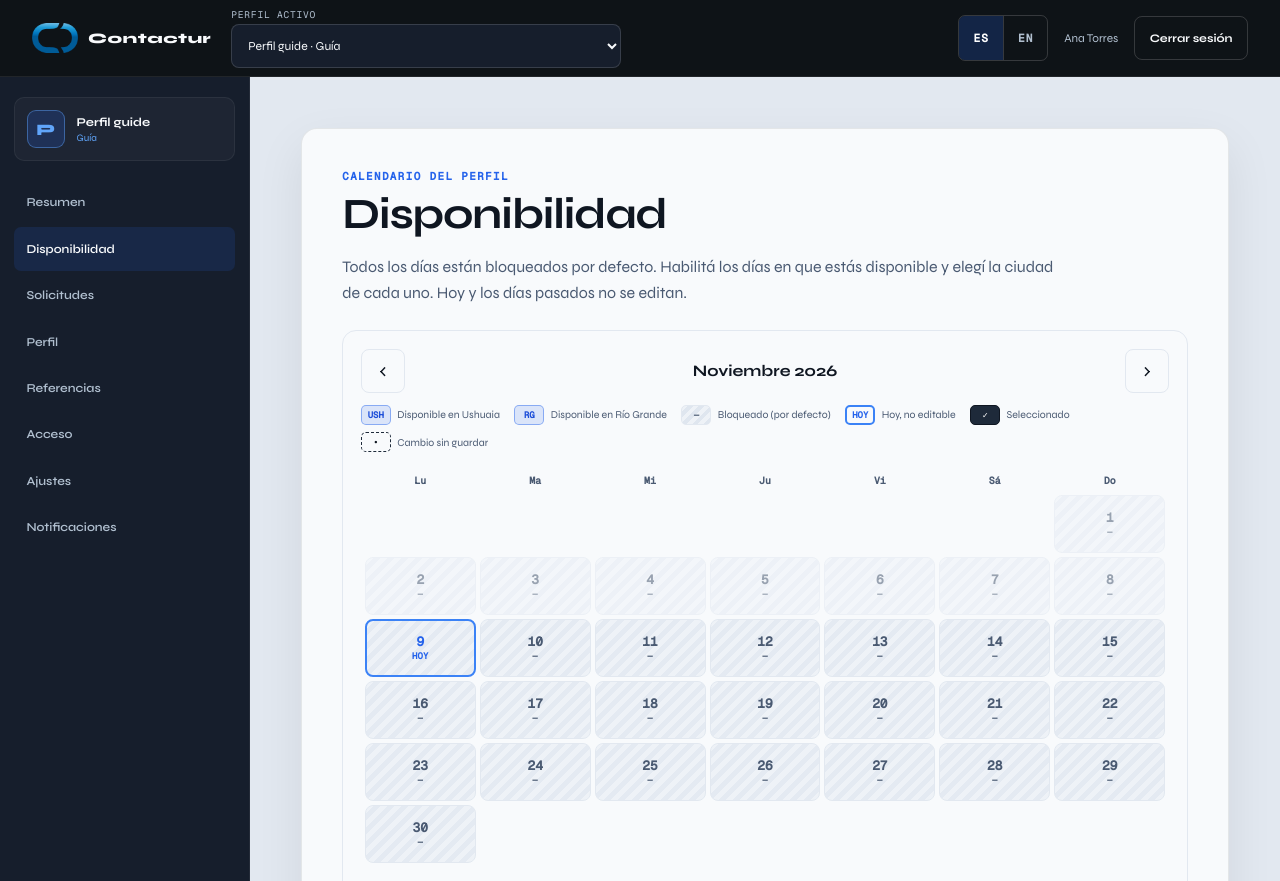
Test case: T13 — calendario mensual › un 422 por ítem se muestra en el día correcto y el borrador queda intacto
This screenshot has width=1280, height=881.
Expected: the heading "Disponibilidad" is shown, left=342, top=188, right=667, bottom=240
What coordinates should you click on to do the following:
click the button "10 —"
I would click on:
 (535, 648)
Its box is left=480, top=620, right=591, bottom=678.
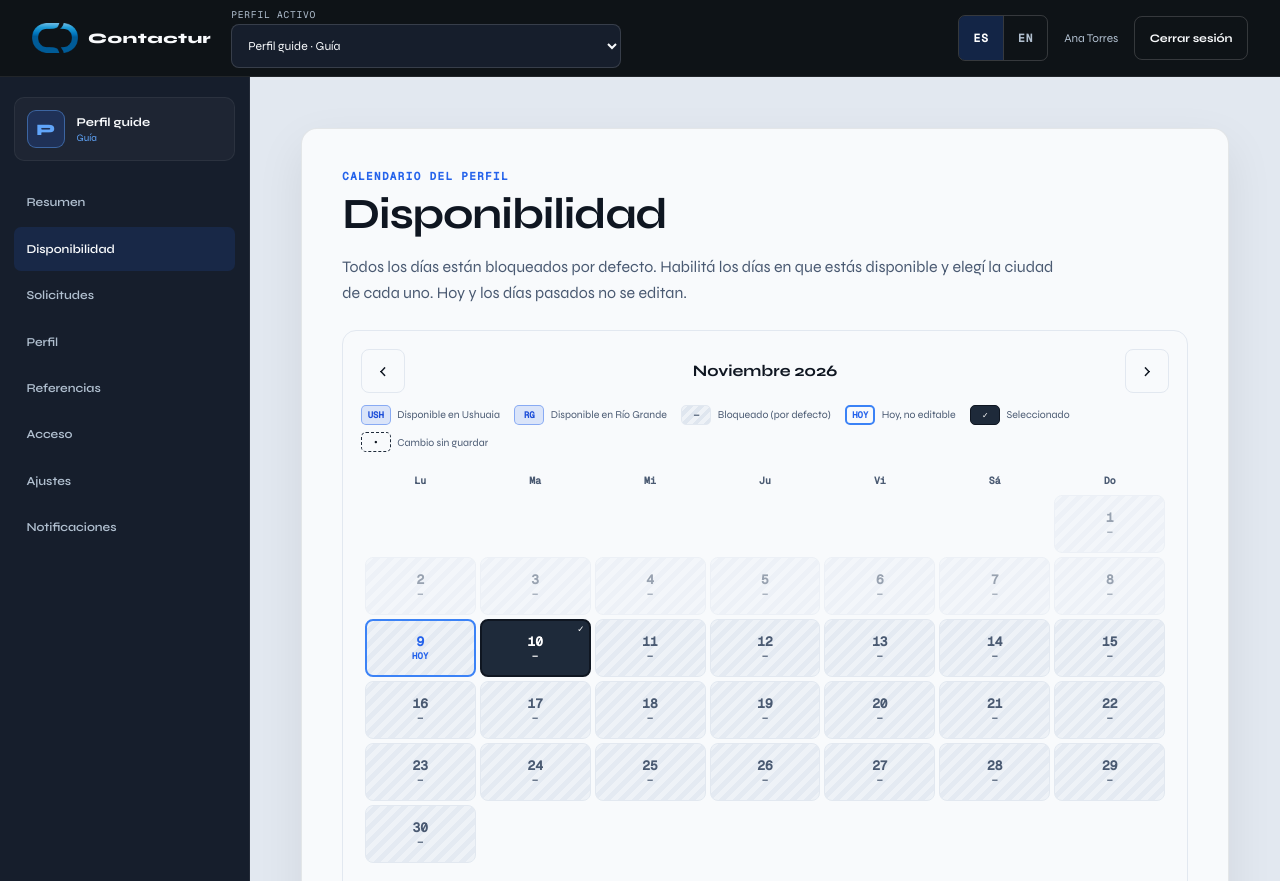
What coordinates should you click on to do the following:
click the button "11 —"
I would click on:
 (650, 648)
Its box is left=595, top=620, right=706, bottom=678.
(page scrolled)
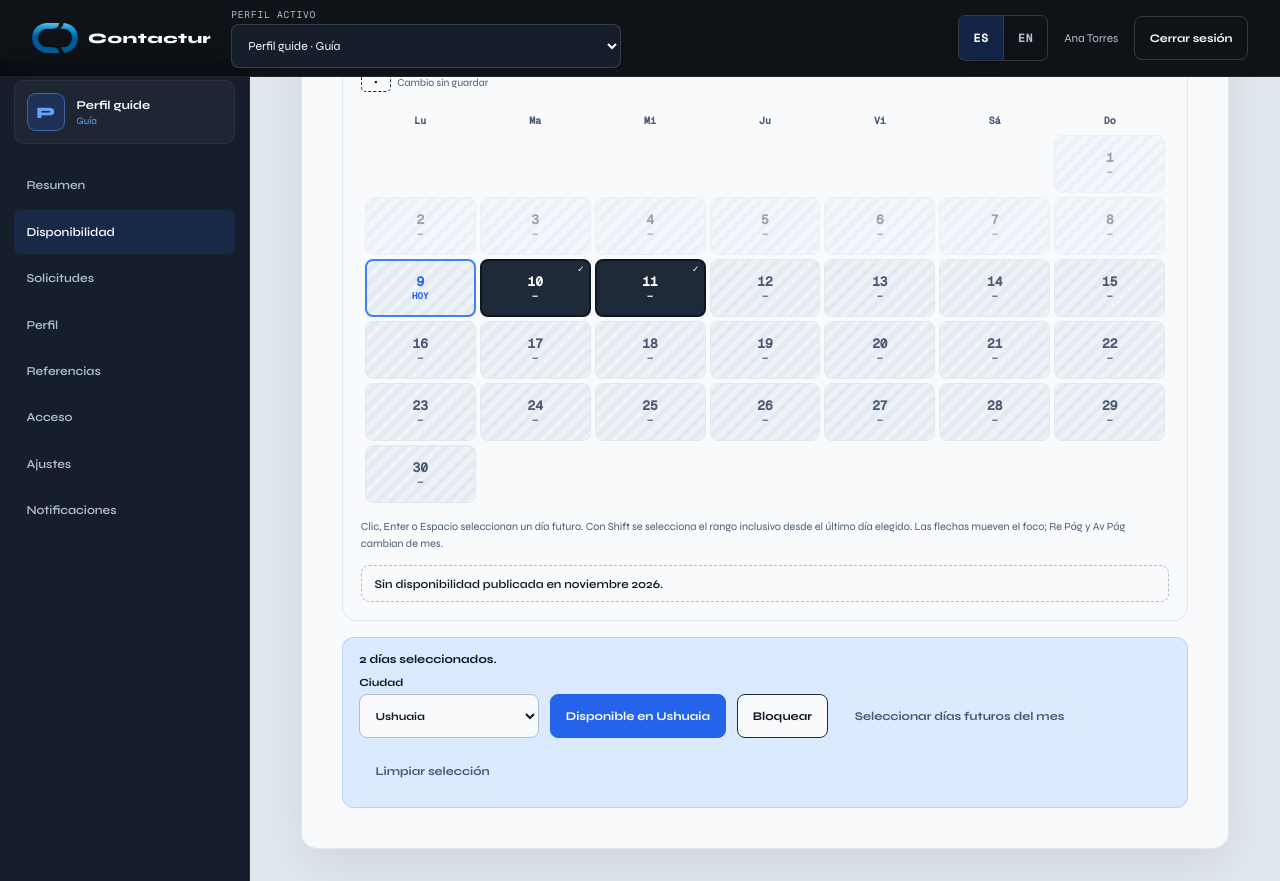
What coordinates should you click on to do the following:
click the button "Disponible en Ushuaia"
I would click on:
 (638, 716)
Its box is left=550, top=694, right=726, bottom=738.
(page scrolled)
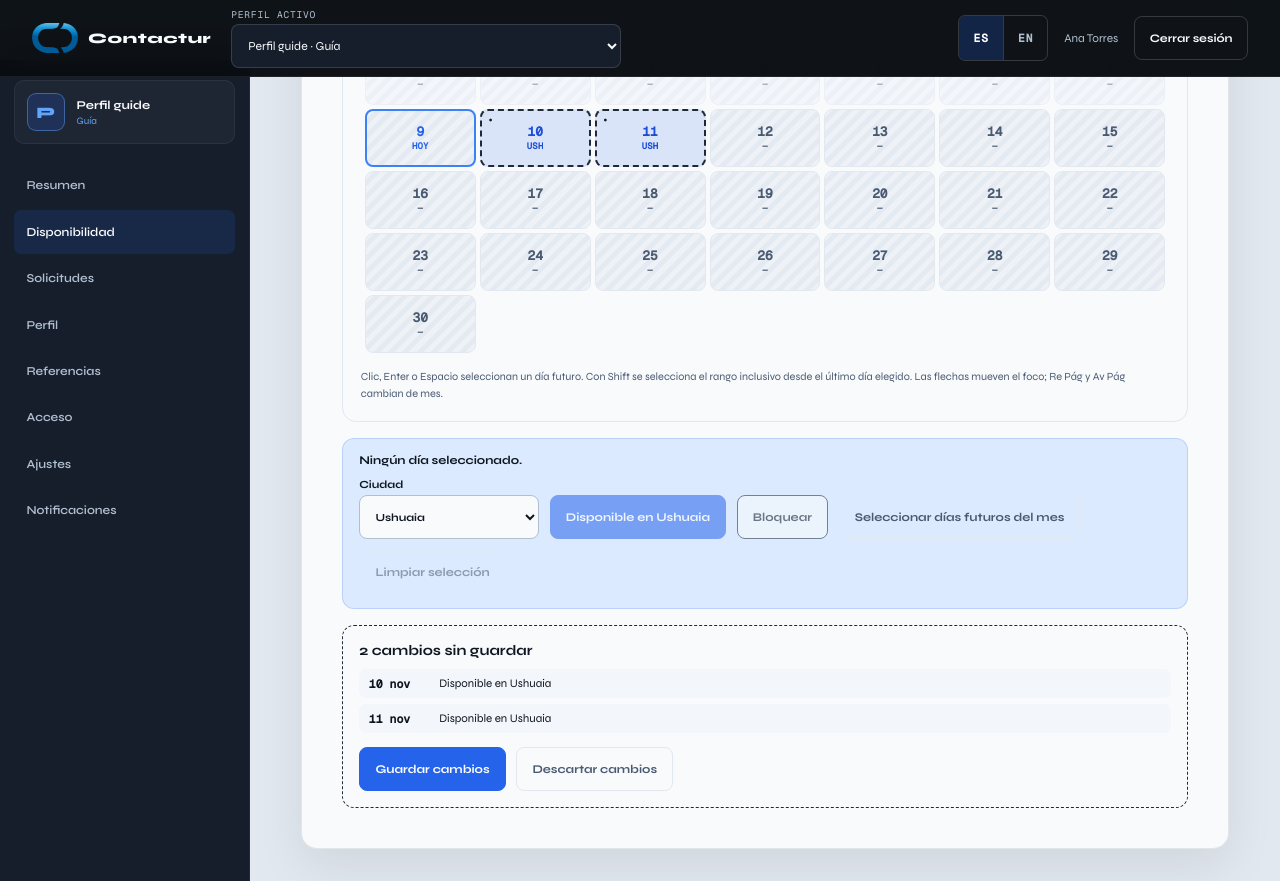
What coordinates should you click on to do the following:
click the button "Guardar cambios"
I would click on:
 (432, 769)
Its box is left=359, top=747, right=506, bottom=791.
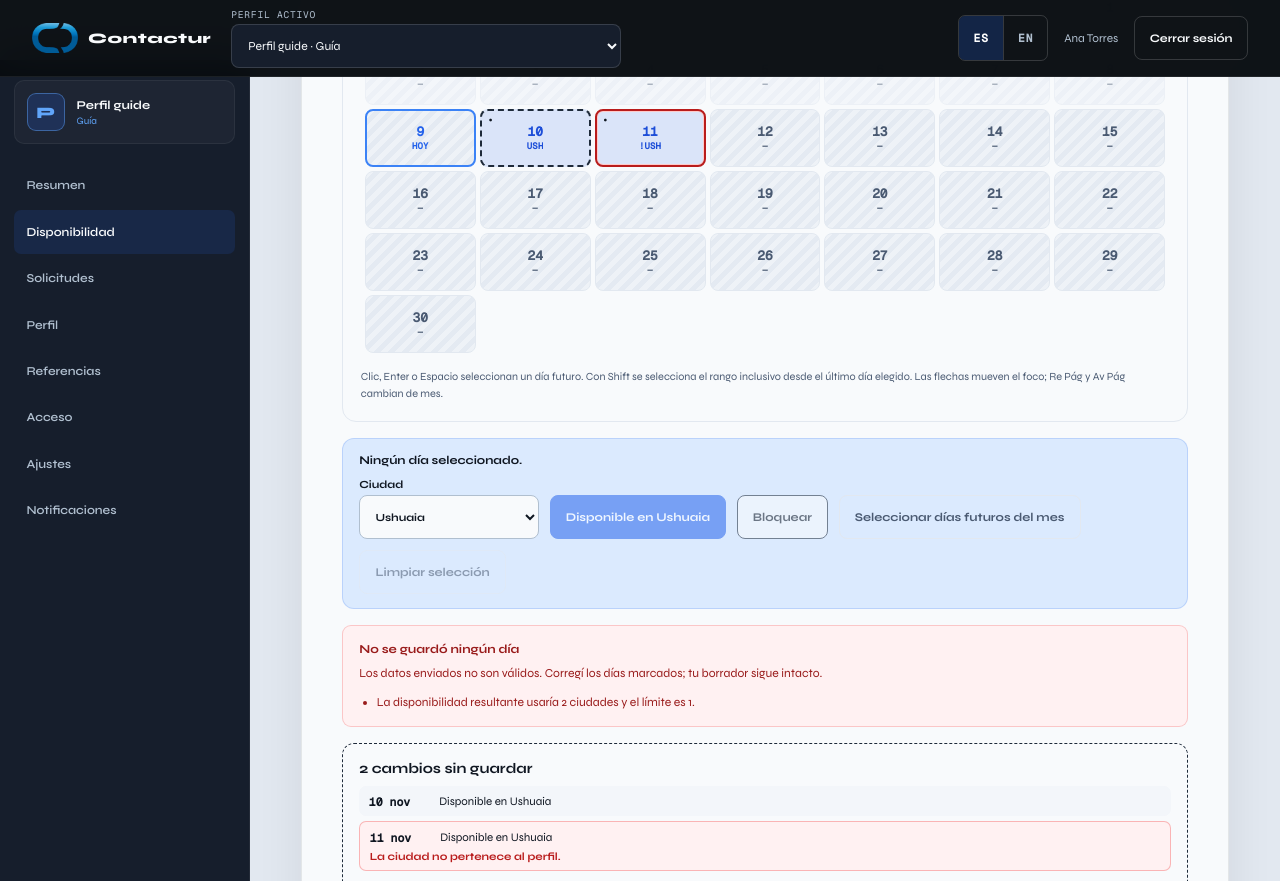
Now the message shows "No se guardó ningún día", box left=359, top=642, right=519, bottom=656
Now the message shows "La disponibilidad resultante usaría 2 ciudades y el límite es 1.", box left=377, top=695, right=695, bottom=709
Now the list item that starts with "11 nov" shows "La ciudad no pertenece al perfil.", box left=370, top=850, right=561, bottom=863
Corregir el día con error limpia su marca sin tocar el resto del borrador.
What coordinates should you click on to do the following:
click the button "11 !USH"
I would click on:
 (650, 138)
Its box is left=595, top=110, right=706, bottom=168.
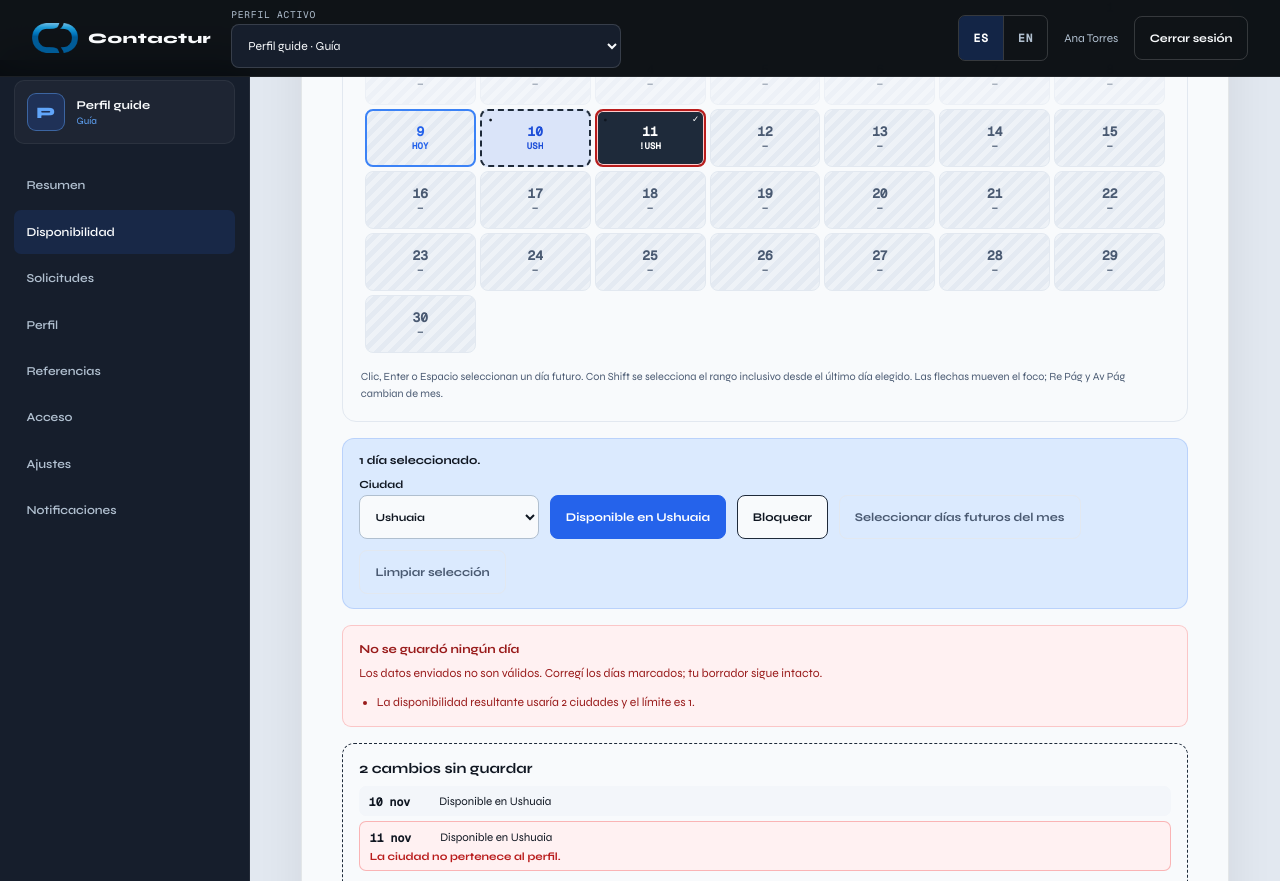
What coordinates should you click on to do the following:
click the button "Bloquear"
I would click on:
 (782, 517)
Its box is left=737, top=495, right=828, bottom=539.
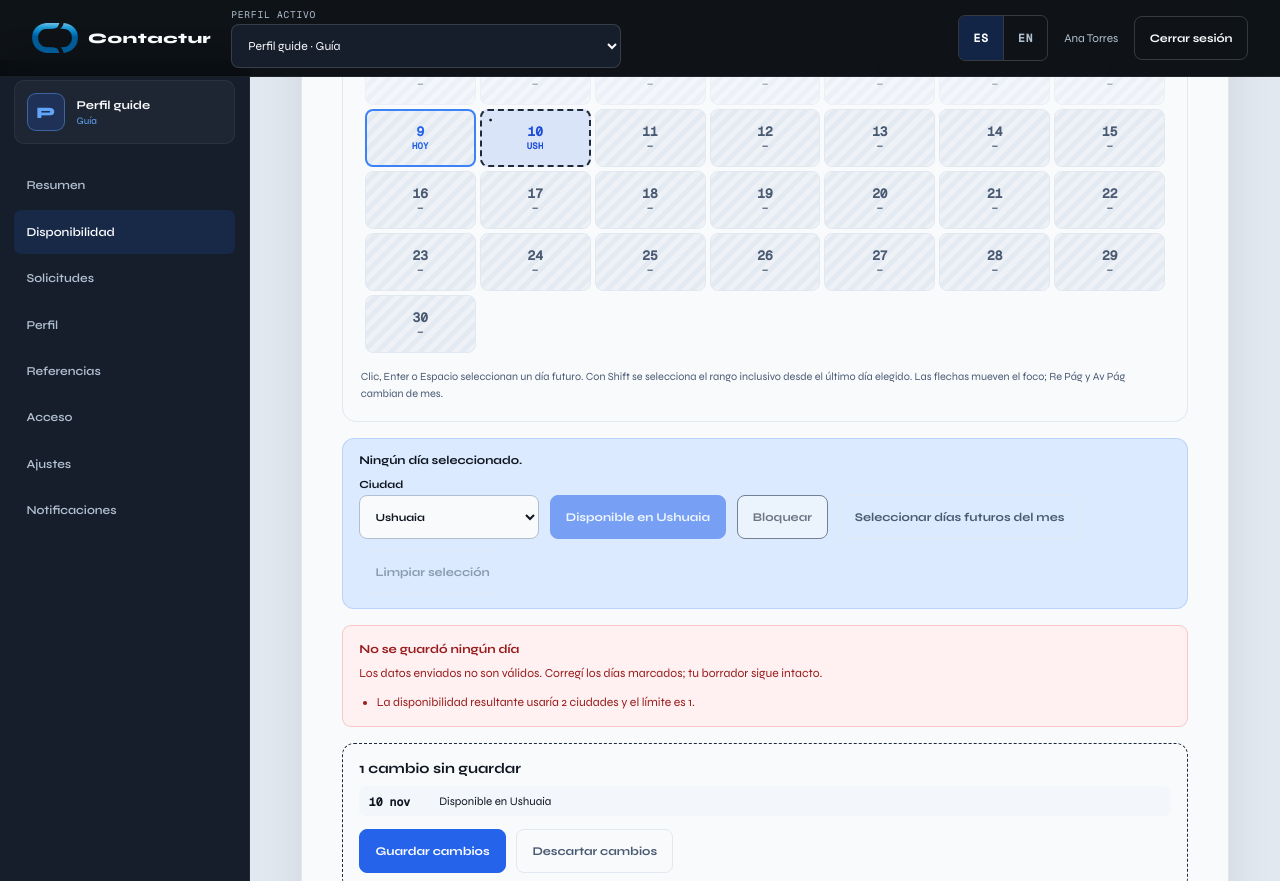
Now the heading "1 cambio sin guardar" is shown, box left=359, top=760, right=521, bottom=777
